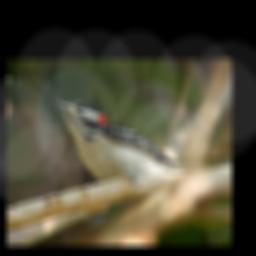Woodpecker: (51, 95, 208, 188)
